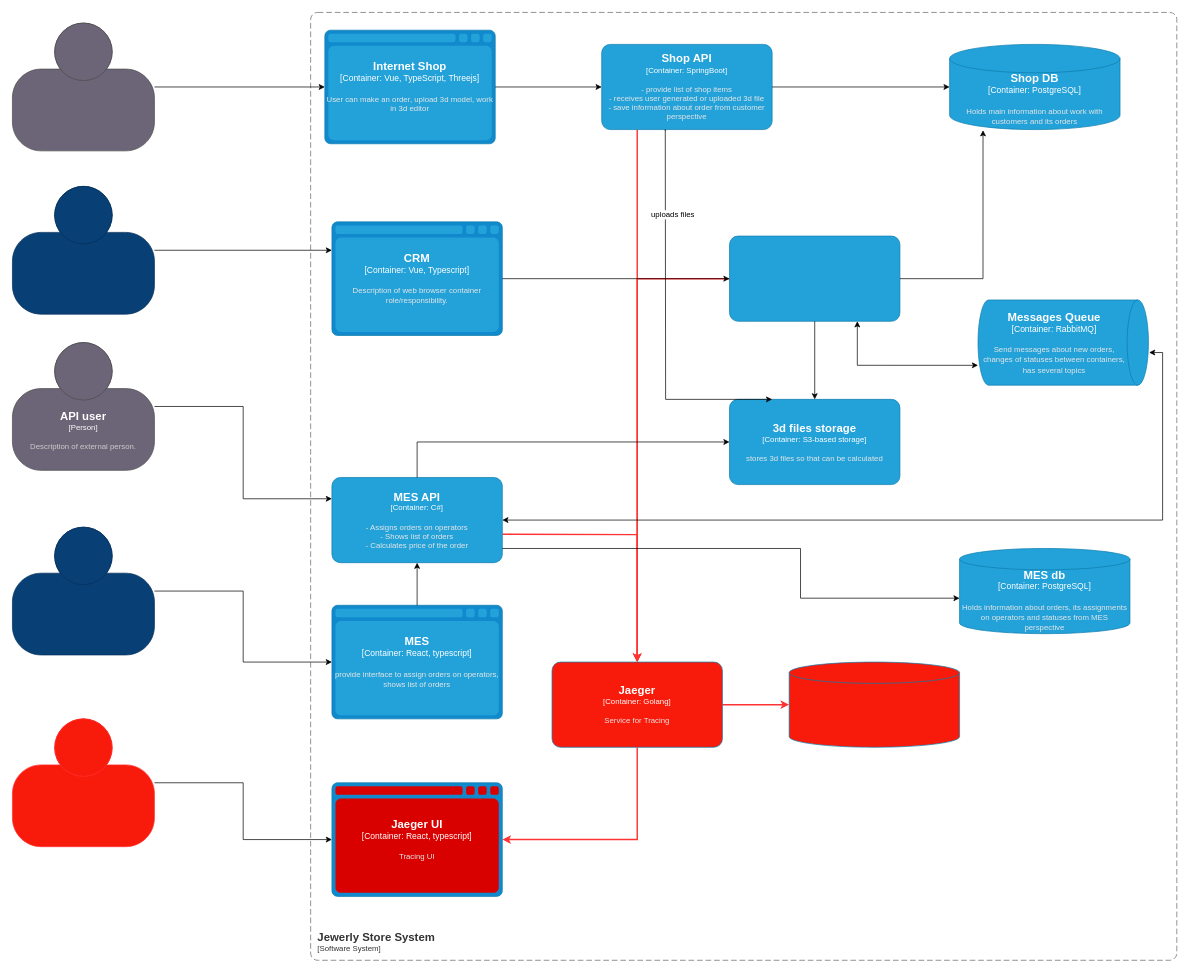
Some shapes in this 1189 by 973 pixel diagram are drawn without their labels. Each missing label, with the centre of its shape:
CRM API [Container: SpringBoot] Description of container role/responsibility.: (814,278)
Customer [Person] Description of external person.: (83,86)
DevOps Engineer [Person] Helps to operate the systems: (83,782)
Jaeger db [Container: YDB] DB for Jaeger: (874,704)
Operator [Person] Takes order in work, manufactures jewerly: (83,590)
Seller [Person] Operates with order, confirms manufacturing for the user: (83,250)
